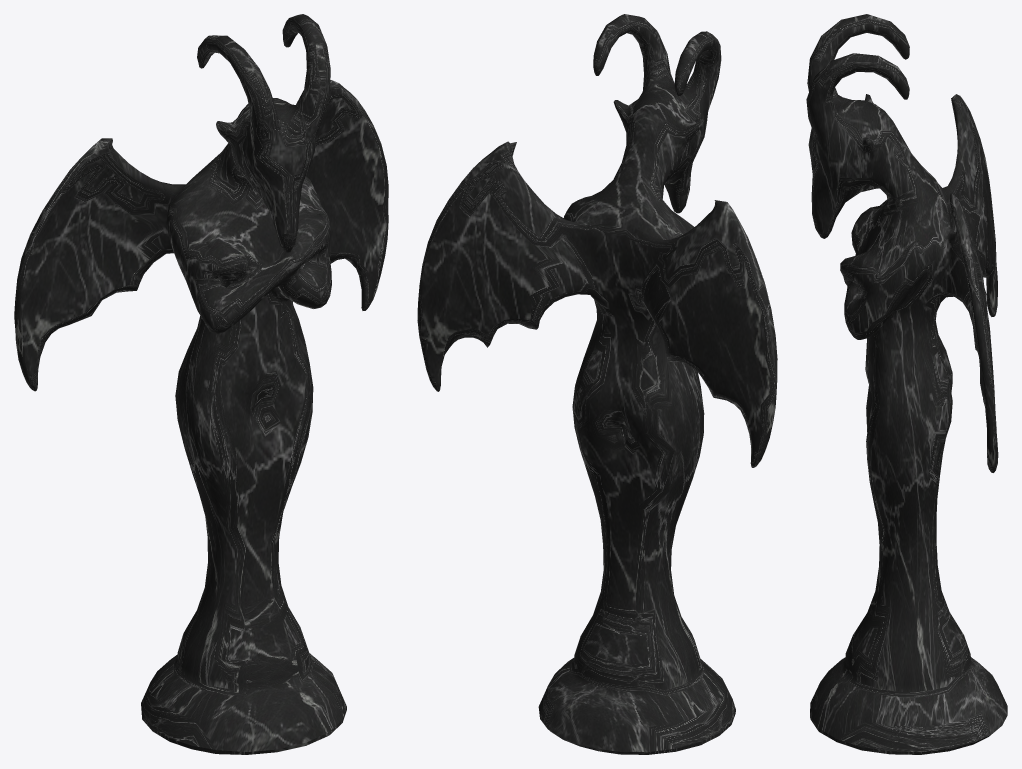
File: demonblack0.glb
3 views of the same model, side by side, from view 1: azimuth 30°, elevation 25°; view 2: azimuth 150°, elevation 25°; view 3: azimuth 270°, elevation 25° (orthographic). The views are drawn at different scales.
Size of the model in its own units: 1.11 by 1.99 by 0.533.
1 material, 1 textured.
